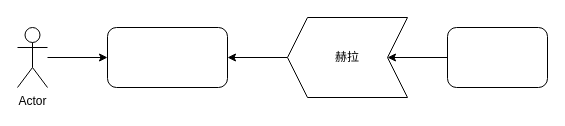
The diagram is 565 pixels wide and 126 high, and some of its shapes have lost their labels. The centre of each missing label's shape, as x and y in pixels:
"hive" goes at (x=497, y=57).
"solr" goes at (x=167, y=57).
